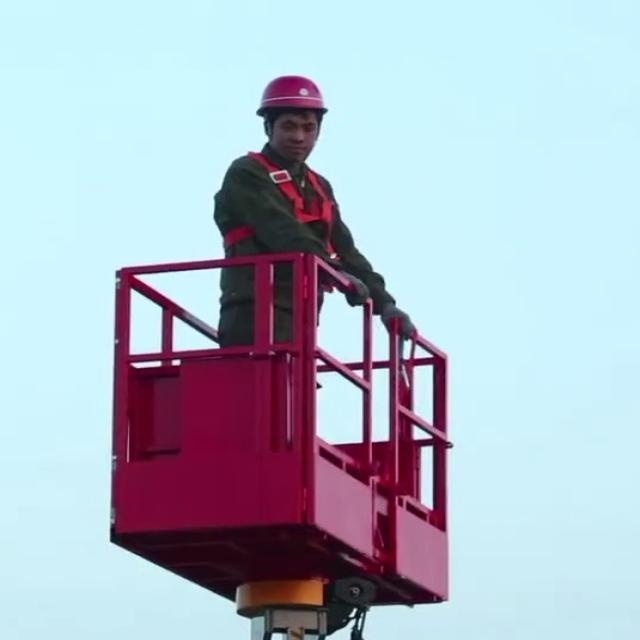Arnes_seguridad: (210, 147, 344, 249)
